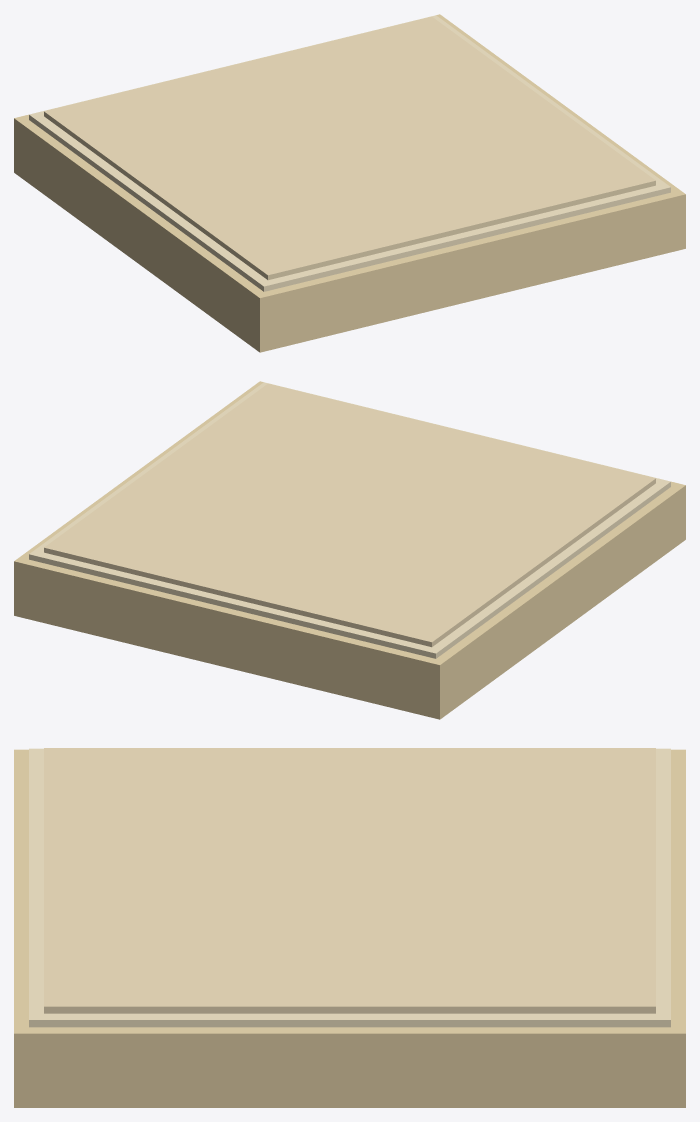
File: tile_base.glb
The picture shows the model from 3 angles, top to bottom: view 1: azimuth 30°, elevation 25°; view 2: azimuth 150°, elevation 25°; view 3: azimuth 270°, elevation 25°; orthographic projection. The views are drawn at different scales.
Visible parts, largest first — view 1: Tile_Top, Tile_Base, Tile_Edge_Highlight; view 2: Tile_Top, Tile_Base, Tile_Edge_Highlight; view 3: Tile_Top, Tile_Base, Tile_Edge_Highlight.
Part boxes in pixels (x1,y1,x2,y2): Tile_Top: (44,16,655,280); Tile_Base: (14,14,685,352); Tile_Edge_Highlight: (29,15,670,291); Tile_Top: (44,383,655,647); Tile_Base: (14,381,685,719); Tile_Edge_Highlight: (29,382,670,658); Tile_Top: (44,748,655,1013); Tile_Base: (14,749,685,1107); Tile_Edge_Highlight: (29,748,670,1027).
Bounding box in the file's own units: 1.8 × 0.2615 × 1.8.
